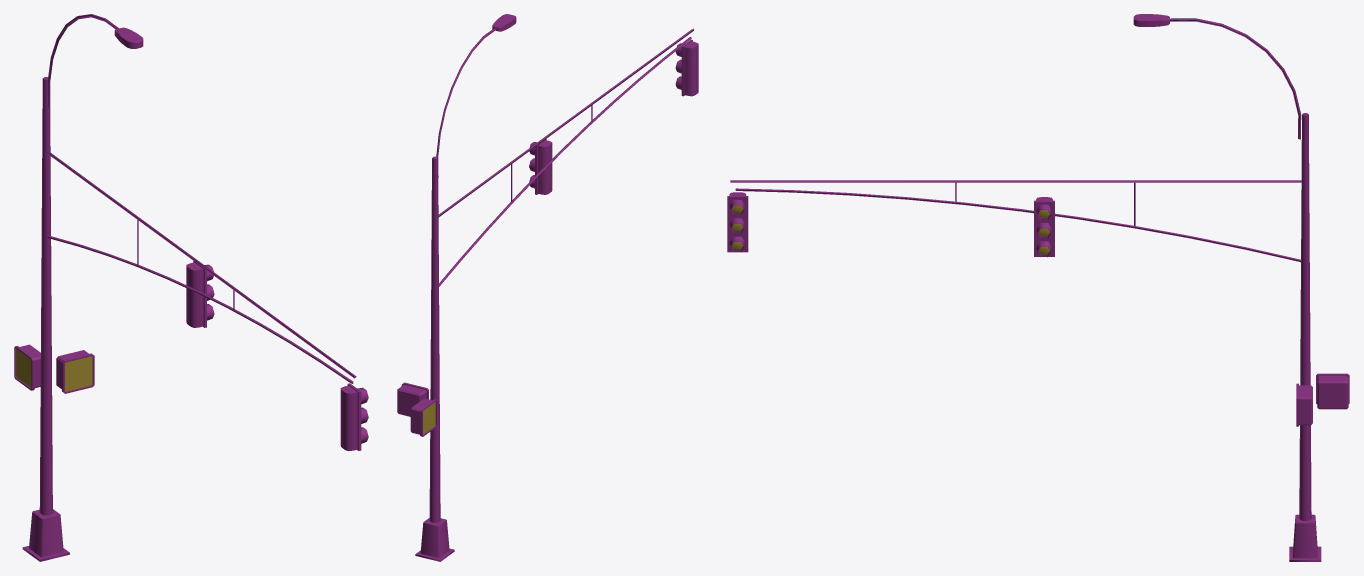
Rendered from mcp_traffic_lights_02_LOD_1.FBX.
The picture shows the model from 3 angles, left to right: view 1: azimuth 30°, elevation 25°; view 2: azimuth 150°, elevation 25°; view 3: azimuth 270°, elevation 25°; orthographic projection. The views are drawn at different scales.
Parts seen in each view (by area): view 1: mcp_street_light_pole_02, mcp_traffic_lights_02_lights_b; view 2: mcp_street_light_pole_02; view 3: mcp_street_light_pole_02.
Boxes of the visible parts, x1=… form: mcp_street_light_pole_02: x1=14, y1=14, x2=368, y2=561; mcp_traffic_lights_02_lights_b: x1=16, y1=349, x2=92, y2=391; mcp_street_light_pole_02: x1=397, y1=14, x2=698, y2=561; mcp_street_light_pole_02: x1=727, y1=14, x2=1349, y2=561.
Bounding box in the file's own units: 127 × 1204 × 1263.
